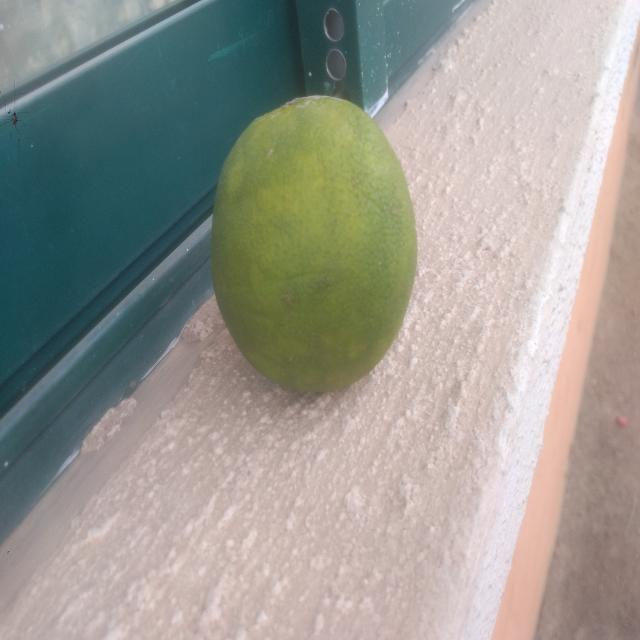Unripe: (197, 82, 440, 412)
